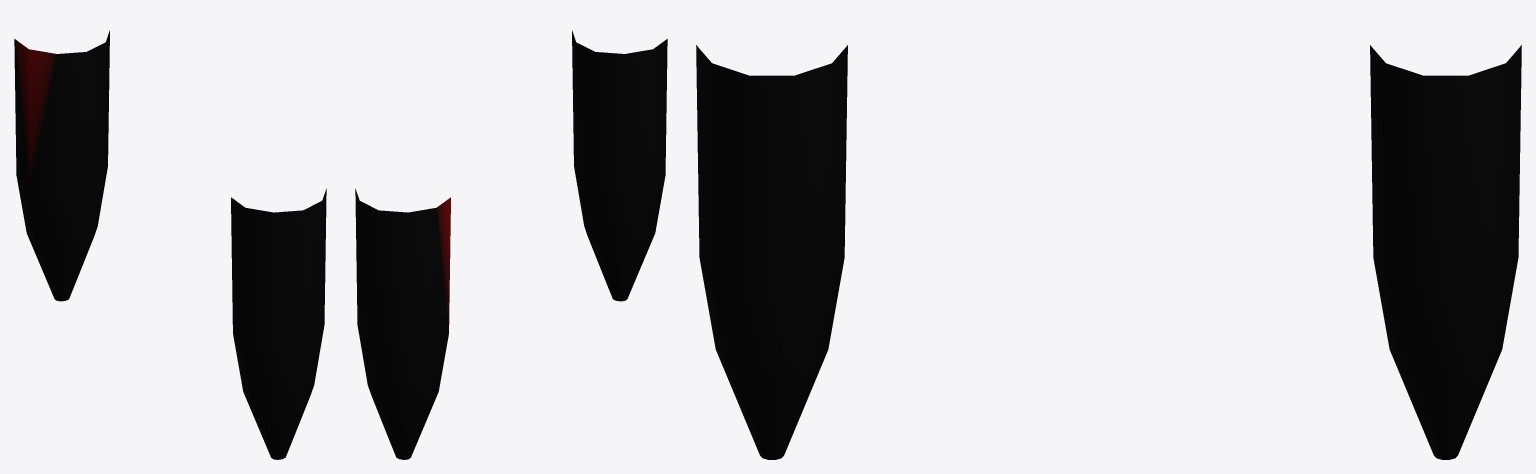
Rendered from ASE_FX_Havoc_Jets_U.gltf.
3 views of the same model, side by side, from view 1: azimuth 30°, elevation 25°; view 2: azimuth 150°, elevation 25°; view 3: azimuth 270°, elevation 25° (orthographic). The views are drawn at different scales.
Visible parts, largest first — view 1: ASE_FX_Havoc_Jets_U; view 2: ASE_FX_Havoc_Jets_U; view 3: ASE_FX_Havoc_Jets_U.
Boxes of the visible parts, x1=… form: ASE_FX_Havoc_Jets_U: x1=14, y1=30, x2=326, y2=459; ASE_FX_Havoc_Jets_U: x1=355, y1=30, x2=667, y2=459; ASE_FX_Havoc_Jets_U: x1=696, y1=45, x2=1521, y2=459.
Bounding box in the file's own units: 0.1351 × 0.4206 × 0.7648.
